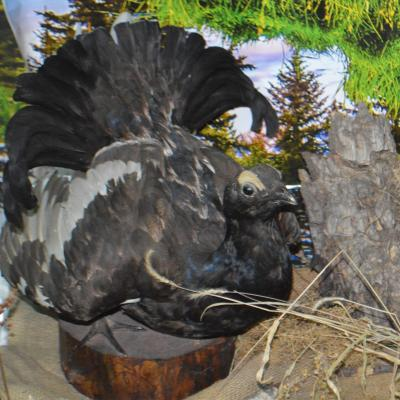natural_science_collection: (0, 20, 302, 357)
